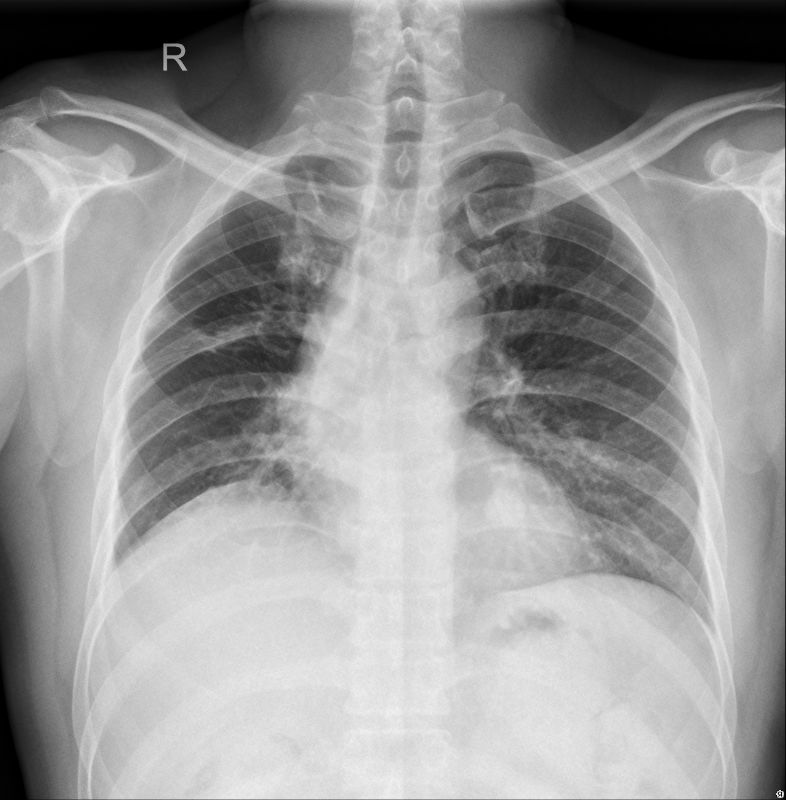Tuberculosis (TB): (264, 176, 328, 289), (166, 308, 263, 377), (492, 207, 563, 289)
